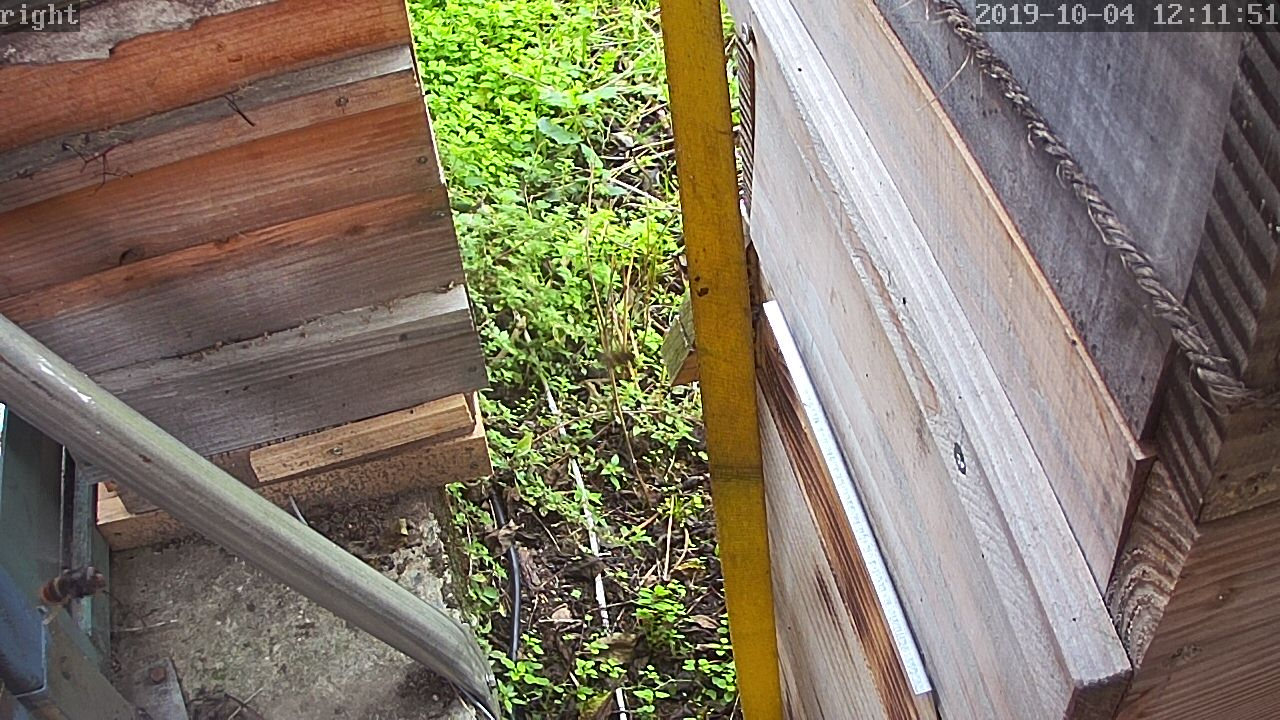hornet: (30, 566, 120, 608)
